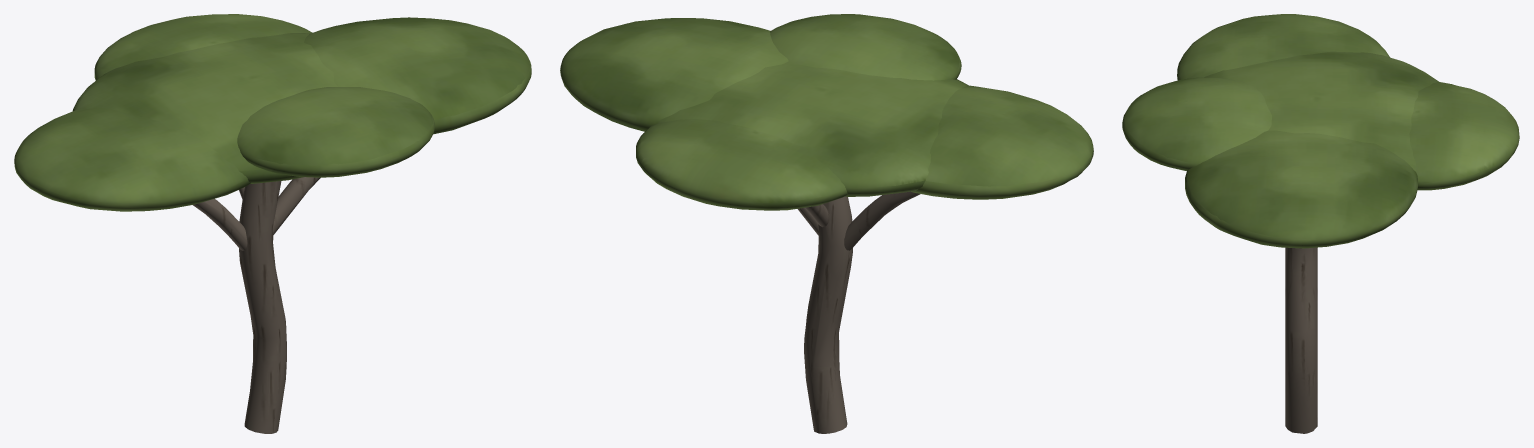
Rendered from acacia.glb.
3 renders of one model, left to right at view 1: azimuth 30°, elevation 25°; view 2: azimuth 150°, elevation 25°; view 3: azimuth 270°, elevation 25°, orthographic. The views are drawn at different scales.
Visible parts, largest first — view 1: acacia; view 2: acacia; view 3: acacia.
Part boxes in pixels (box(x1,y1,x2,y2)): acacia: box(14, 14, 531, 433); acacia: box(560, 14, 1093, 433); acacia: box(1122, 14, 1519, 433).
Bounding box in the file's own units: 7 × 4.72 × 5.09.
Materials: 2 (2 with a texture image).
